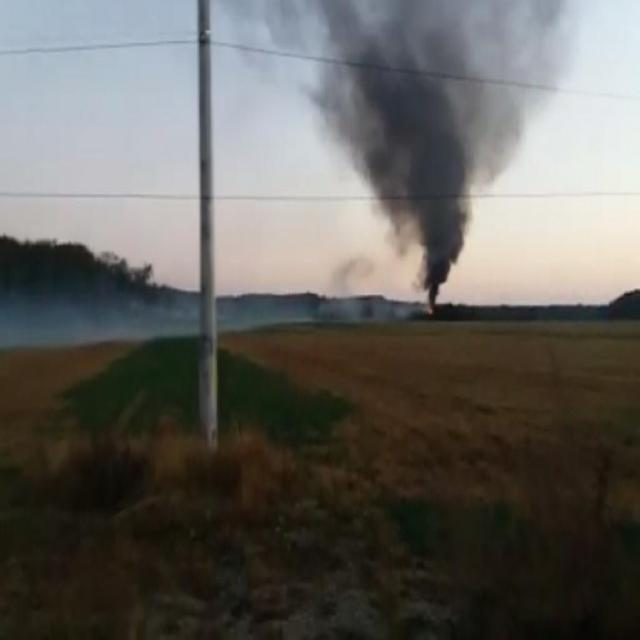Smoke: (315, 0, 488, 317)
